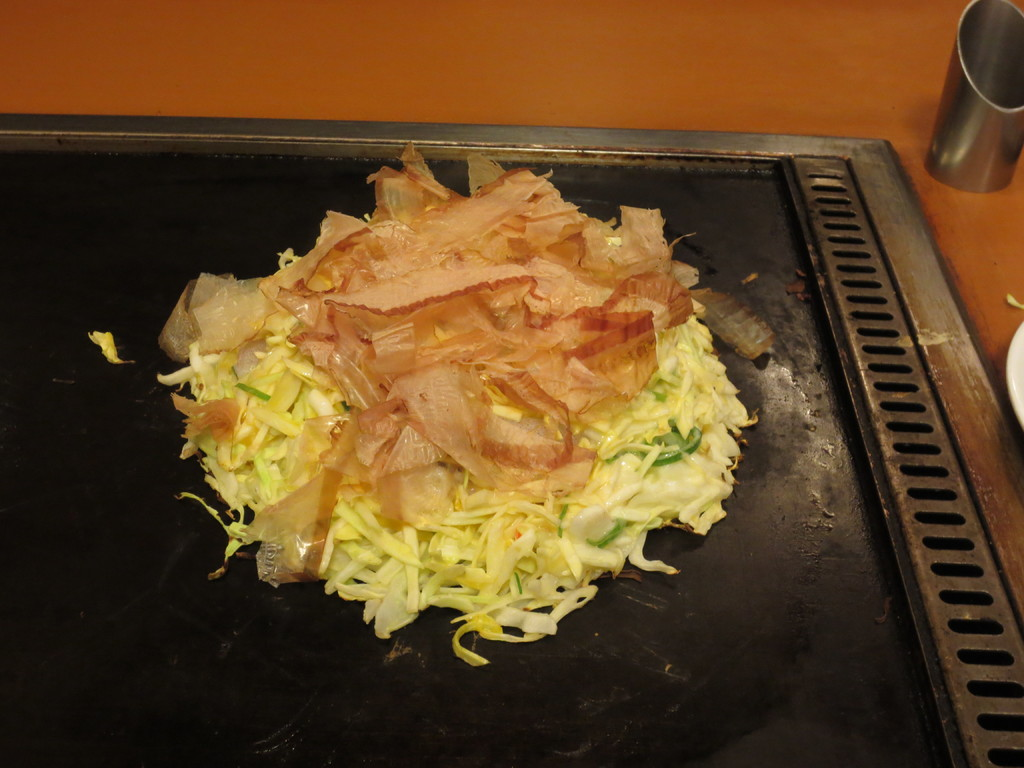Cabbage: (87, 203, 758, 665)
